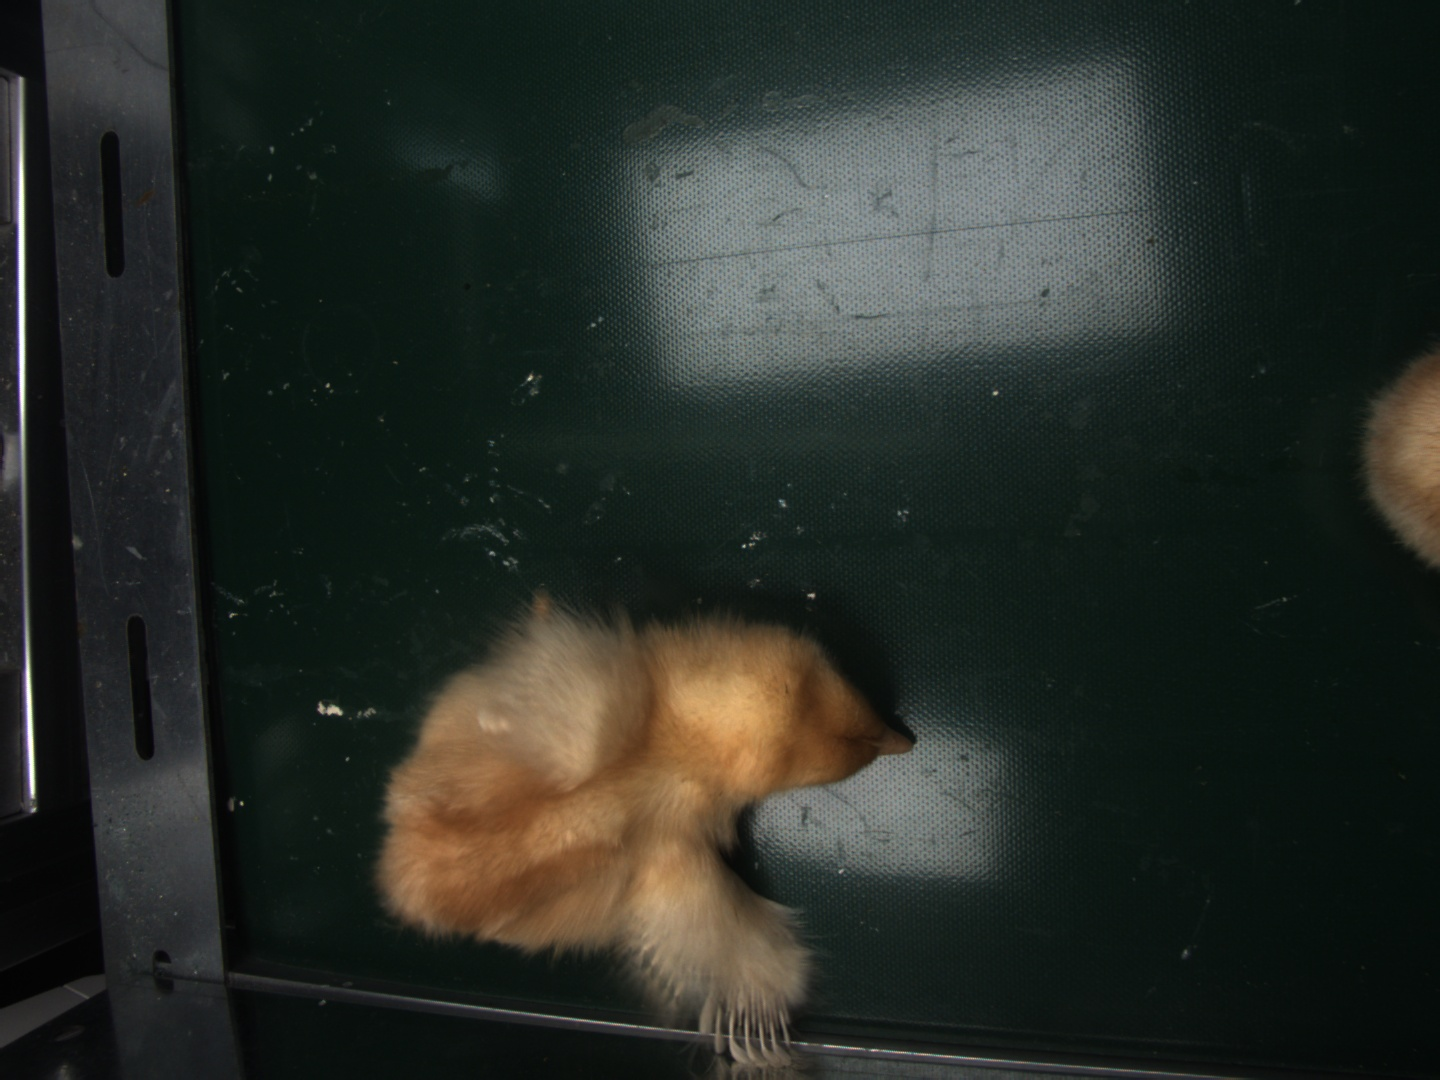female: (705, 988, 798, 1072)
